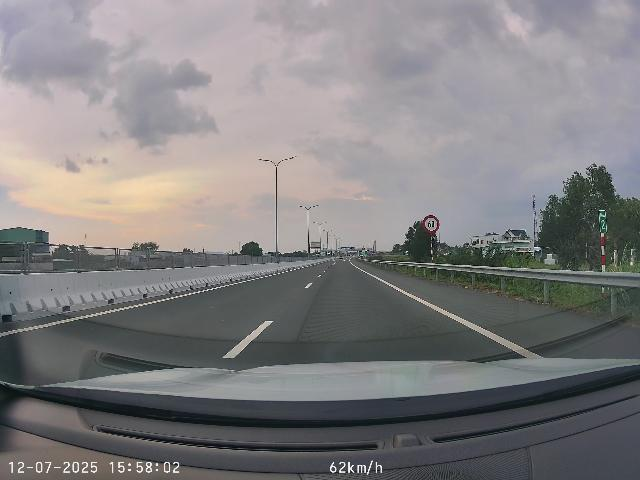127-toc-do-toi-da-60: (423, 215, 440, 234)
